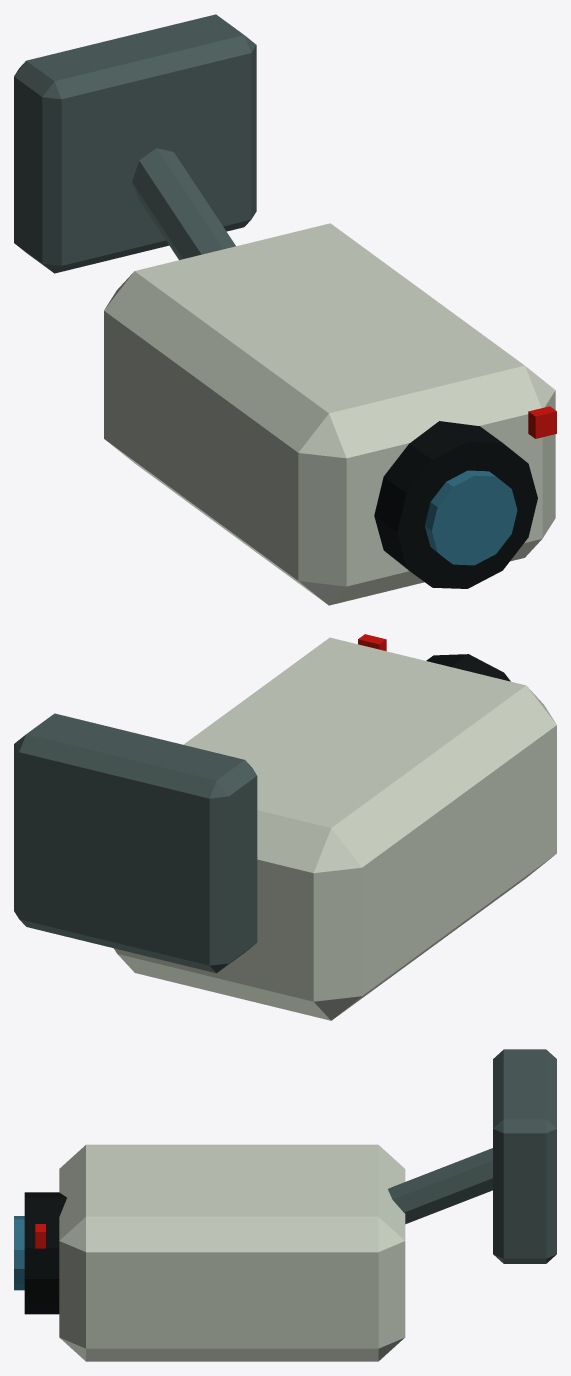
File: SM_MP_Security_Camera.fbx
3 views of the same model, one above another, from view 1: azimuth 30°, elevation 25°; view 2: azimuth 150°, elevation 25°; view 3: azimuth 270°, elevation 25° (orthographic). The views are drawn at different scales.
Visible parts, largest first — view 1: SM_MP_Security_Camera; view 2: SM_MP_Security_Camera; view 3: SM_MP_Security_Camera.
Part boxes in pixels (left/top/right/bottom): SM_MP_Security_Camera: left=14, top=14, right=556, bottom=605; SM_MP_Security_Camera: left=14, top=634, right=556, bottom=1020; SM_MP_Security_Camera: left=14, top=1049, right=556, bottom=1361.
Bounding box in the file's own units: 42 × 102 × 50.
Materials: 1 (1 with a texture image).
